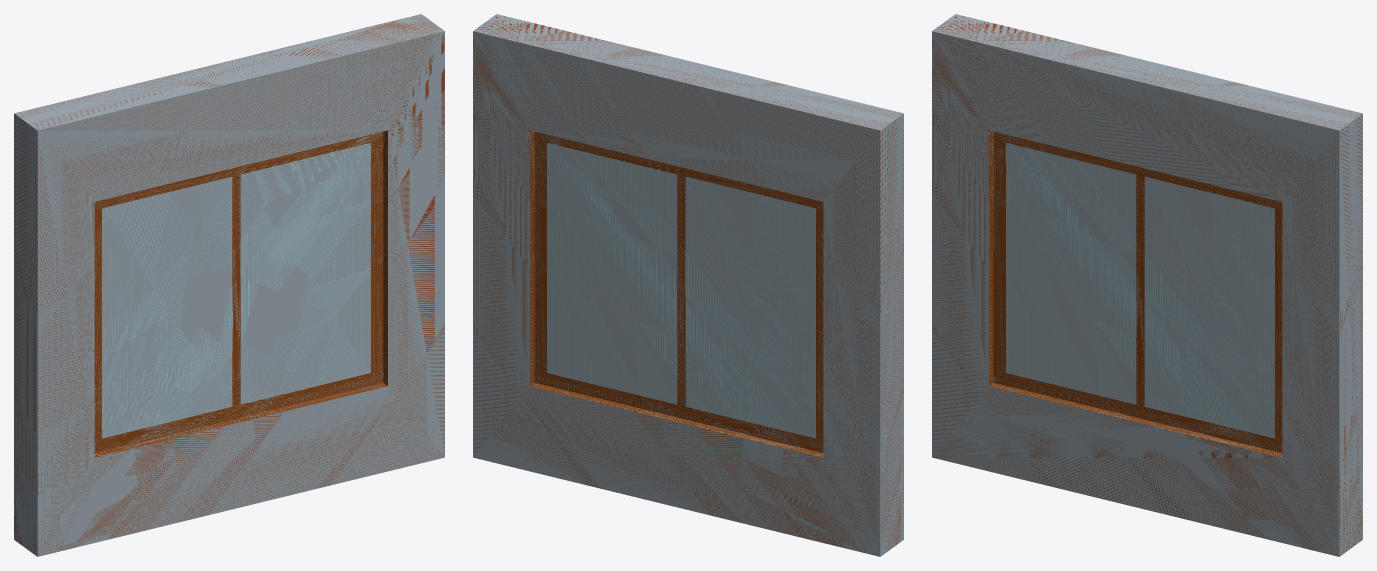
File: wall_window_7.fbx
3 renders of one model, left to right at view 1: azimuth 30°, elevation 25°; view 2: azimuth 150°, elevation 25°; view 3: azimuth 330°, elevation 25°, orthographic.
Parts seen in each view (by area): view 1: Mesh1_window_8_1 Model; view 2: Mesh1_window_8_1 Model; view 3: Mesh1_window_8_1 Model.
Part boxes in pixels (bbox=[...]): Mesh1_window_8_1 Model: bbox=[14, 14, 444, 556]; Mesh1_window_8_1 Model: bbox=[473, 14, 903, 556]; Mesh1_window_8_1 Model: bbox=[932, 14, 1362, 556].
Size of the model in its own units: 1 by 1 by 0.1.
